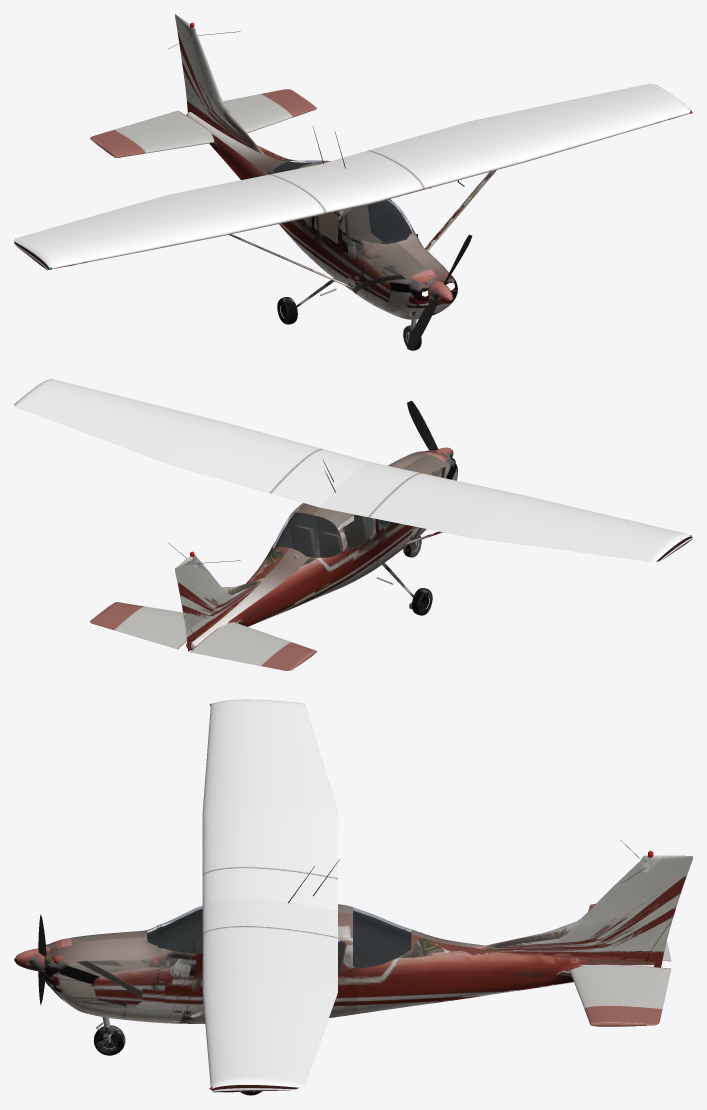
The picture shows the model from 3 angles, top to bottom: view 1: azimuth 30°, elevation 25°; view 2: azimuth 150°, elevation 25°; view 3: azimuth 270°, elevation 25°; orthographic projection. The views are drawn at different scales.
Visible parts, largest first — view 1: wing_L, wing_R, fuselage, fin, stab_R, fuselage_glass, stab_L, cabin_shell, seat0_back, prop_blade1, seat1_back, strut_L; view 2: wing_L, wing_R, fuselage, fin, stab_R, fuselage_glass, stab_L, cabin_shell, seat2_back, seat1_back, seat3_back, prop_blade0; view 3: wing_R, fuselage, wing_L, fin, stab_L, fuselage_glass, cabin_shell, nose_wheel_tire.
Boxes of the visible parts, bbox=[...] form: wing_L: bbox=[320, 83, 692, 203]; wing_R: bbox=[14, 164, 374, 270]; fuselage: bbox=[186, 112, 457, 319]; fin: bbox=[175, 14, 263, 153]; stab_R: bbox=[90, 110, 214, 157]; fuselage_glass: bbox=[272, 160, 411, 243]; stab_L: bbox=[223, 89, 316, 133]; cabin_shell: bbox=[272, 161, 411, 241]; seat0_back: bbox=[344, 205, 370, 236]; prop_blade1: bbox=[407, 298, 438, 350]; seat1_back: bbox=[316, 212, 341, 241]; strut_L: bbox=[425, 170, 496, 250]; wing_L: bbox=[14, 379, 371, 507]; wing_R: bbox=[319, 462, 692, 561]; fuselage: bbox=[186, 450, 457, 649]; fin: bbox=[175, 554, 263, 651]; stab_R: bbox=[190, 622, 317, 670]; fuselage_glass: bbox=[272, 513, 390, 557]; stab_L: bbox=[90, 602, 186, 649]; cabin_shell: bbox=[274, 512, 390, 549]; seat2_back: bbox=[290, 523, 317, 557]; seat1_back: bbox=[344, 516, 369, 547]; seat3_back: bbox=[318, 530, 342, 557]; prop_blade0: bbox=[407, 400, 438, 450]; wing_R: bbox=[202, 699, 337, 910]; fuselage: bbox=[45, 904, 654, 1023]; wing_L: bbox=[202, 899, 337, 1092]; fin: bbox=[475, 855, 692, 967]; stab_L: bbox=[570, 964, 671, 1026]; fuselage_glass: bbox=[147, 906, 410, 973]; cabin_shell: bbox=[147, 909, 411, 968]; nose_wheel_tire: bbox=[93, 1025, 125, 1055].
Bounding box in the file's own units: 11.02 × 2.7 × 8.17.
Materials: 18 (2 with a texture image).
